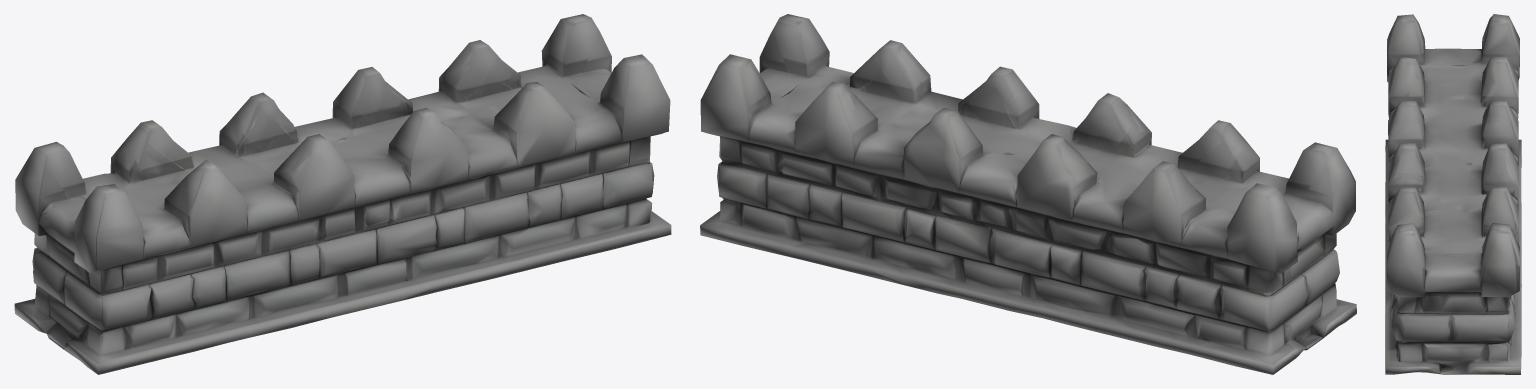
The model's file is wallFlat.fbx.
3 views of the same model, side by side, from view 1: azimuth 30°, elevation 25°; view 2: azimuth 150°, elevation 25°; view 3: azimuth 270°, elevation 25° (orthographic). The views are drawn at different scales.
Visible parts, largest first — view 1: input; view 2: input; view 3: input.
Part boxes in pixels (<box>): input: <box>14,14,671,374</box>; input: <box>700,14,1356,374</box>; input: <box>1385,14,1521,374</box>.
Size of the model in its own units: 3486 by 1000 by 884.
1 material, 1 textured.
